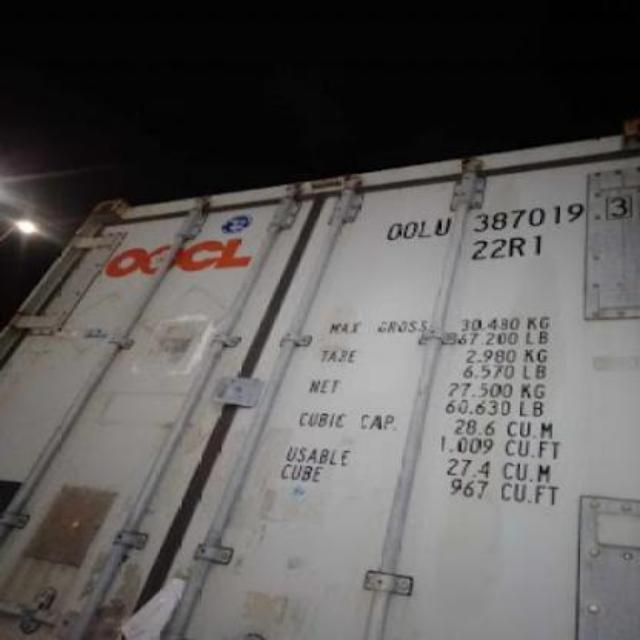0: (528, 206, 546, 228)
1: (552, 203, 562, 227)
3: (606, 196, 632, 222), (472, 210, 490, 233)
7: (509, 207, 526, 231)
8: (492, 210, 508, 232)
9: (566, 201, 586, 225)
L: (416, 218, 432, 240)
O: (386, 218, 404, 242), (404, 218, 418, 240)
U: (435, 215, 453, 238)
